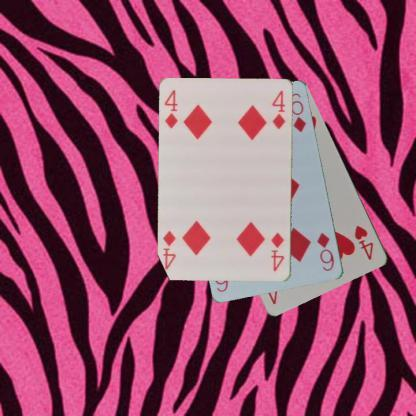4d: (268, 230, 286, 273), (162, 88, 180, 130)
4h: (352, 222, 375, 262)
6d: (314, 230, 336, 273)
